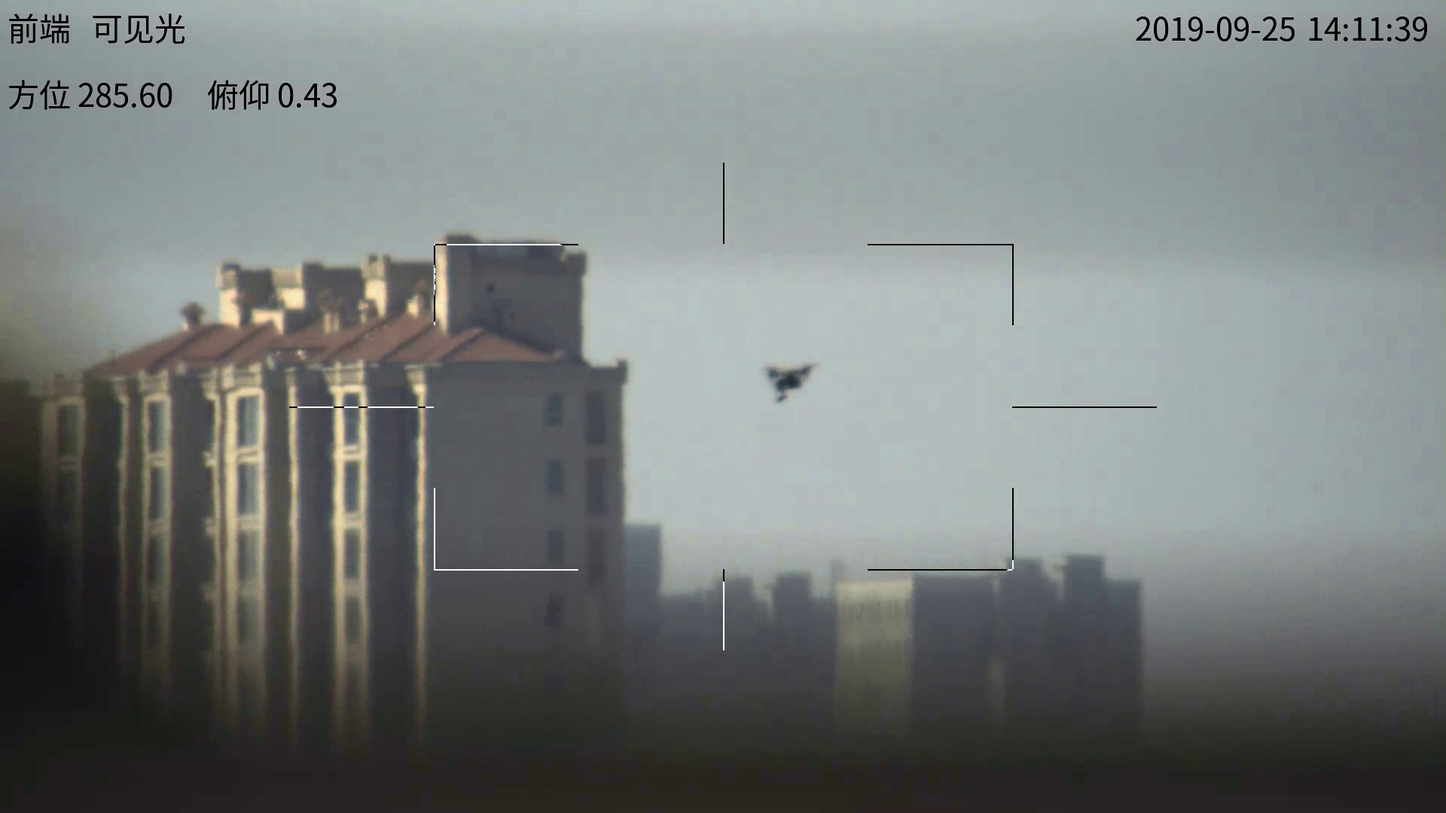drone_other: (763, 361, 819, 403)
